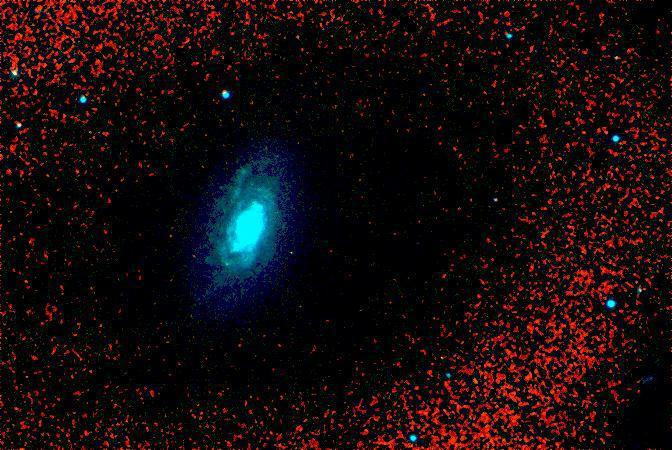star: (211, 247, 241, 277)
